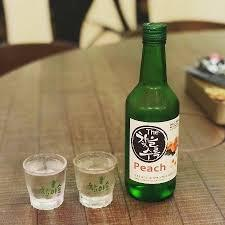soju: (122, 21, 178, 202)
